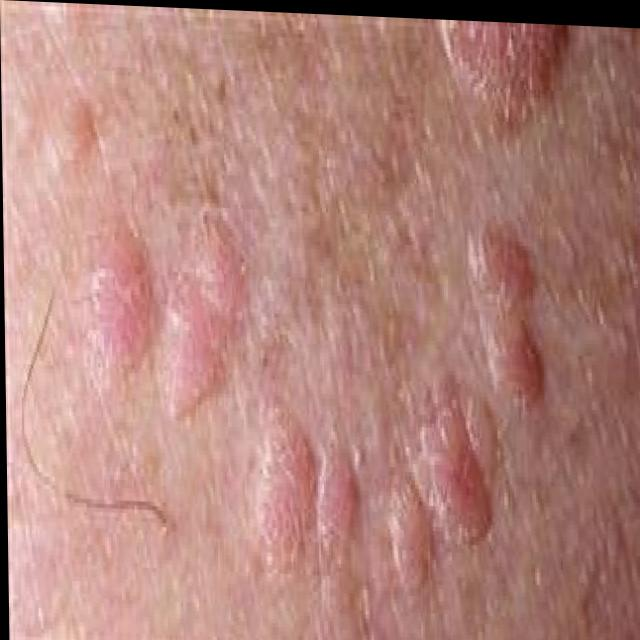blackheads: (371, 202, 543, 612), (63, 146, 252, 433), (242, 371, 365, 602)
